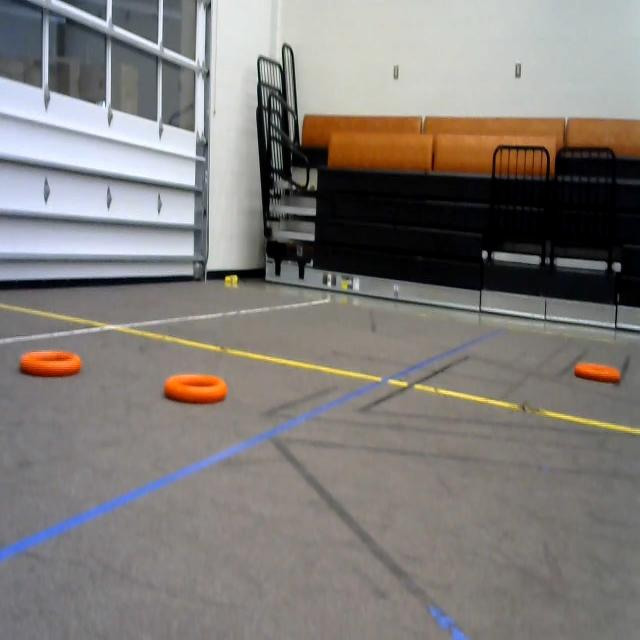note: (162, 366, 232, 415), (15, 343, 84, 388), (572, 359, 629, 390)
